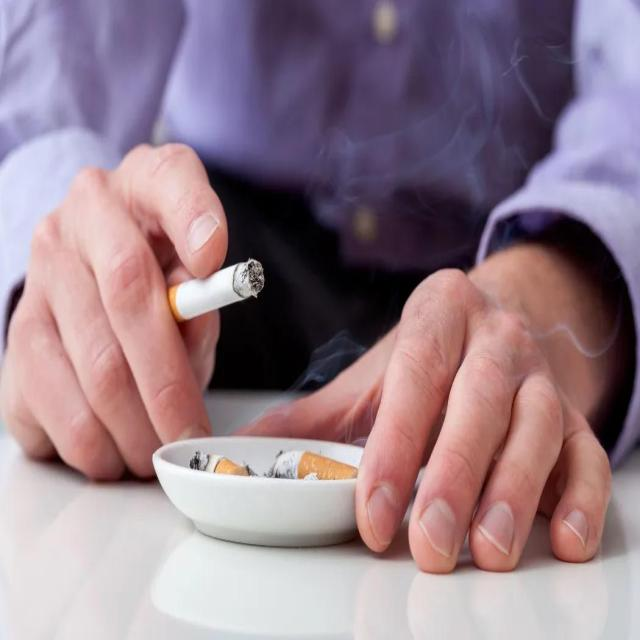cigarette: (167, 260, 266, 323), (271, 451, 358, 480), (191, 451, 250, 477)
